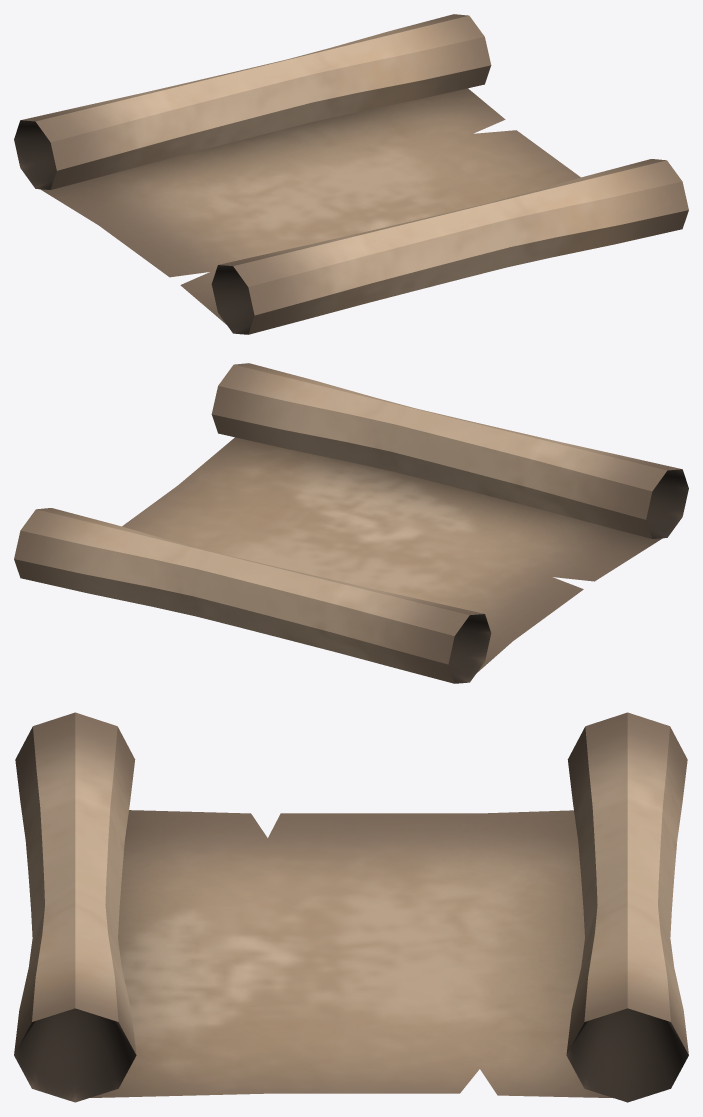
Rendered from SM_parchment2.fbx.
3 renders of one model, top to bottom at view 1: azimuth 30°, elevation 25°; view 2: azimuth 150°, elevation 25°; view 3: azimuth 270°, elevation 25°, orthographic. The views are drawn at different scales.
Parts seen in each view (by area): view 1: SM_parchment2; view 2: SM_parchment2; view 3: SM_parchment2.
Part boxes in pixels (x1,y1,x2,y2): SM_parchment2: (14, 14, 688, 334); SM_parchment2: (14, 363, 688, 683); SM_parchment2: (14, 712, 688, 1102).
Size of the model in its own units: 1.18 by 0.1758 by 1.14.
